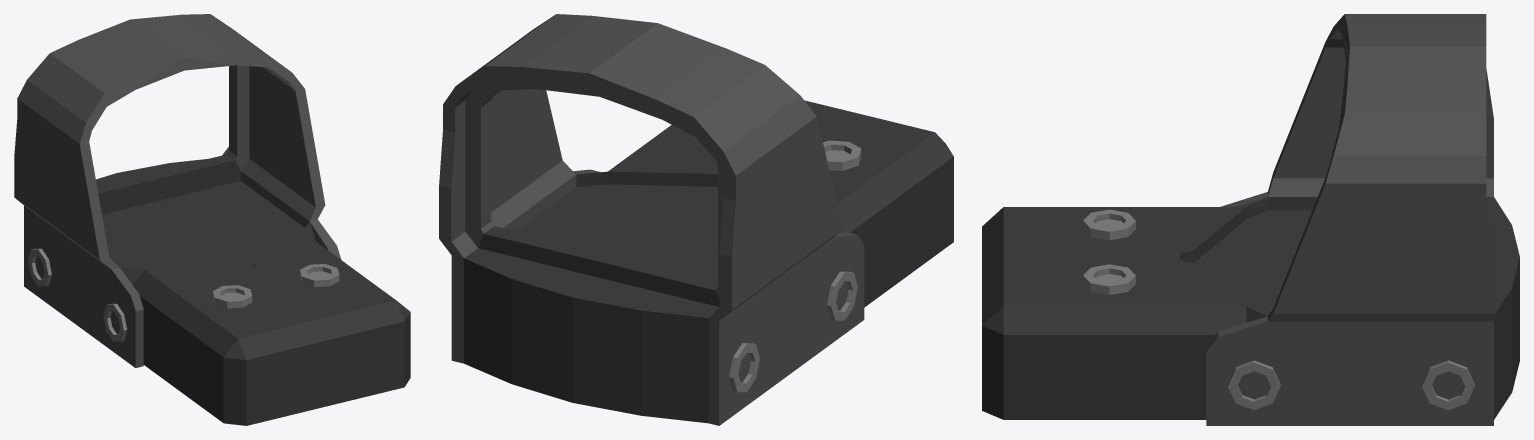
File: Delta_Point.fbx
The picture shows the model from 3 angles, left to right: view 1: azimuth 30°, elevation 25°; view 2: azimuth 150°, elevation 25°; view 3: azimuth 270°, elevation 25°; orthographic projection. The views are drawn at different scales.
Parts seen in each view (by area): view 1: Delta_Point; view 2: Delta_Point; view 3: Delta_Point.
Part boxes in pixels (x1=…): Delta_Point: x1=14, y1=14, x2=410, y2=425; Delta_Point: x1=439, y1=14, x2=953, y2=425; Delta_Point: x1=982, y1=14, x2=1519, y2=425.
Size of the model in its own units: 171 by 177 by 274.
1 material, 1 textured.
